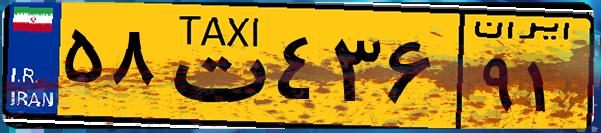1: (525, 38, 570, 115)
3: (330, 28, 385, 110)
4: (270, 28, 330, 110)
5: (57, 26, 110, 100)
6: (385, 28, 445, 110)
8: (110, 28, 158, 98)
9: (475, 38, 525, 113)
ت: (158, 12, 270, 120)
